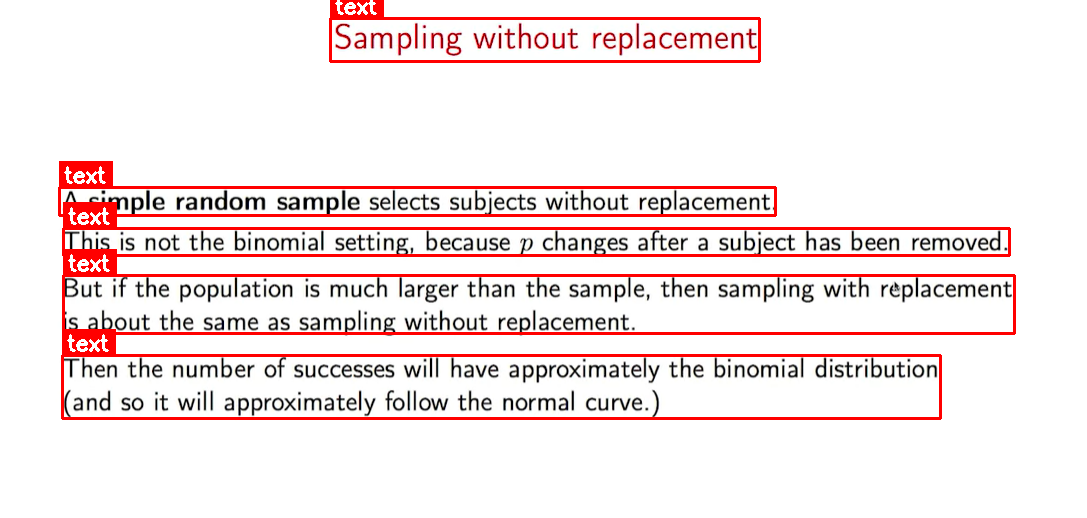text: (62, 355, 940, 418), (63, 275, 1014, 333), (63, 228, 1009, 255), (59, 187, 775, 215), (330, 18, 759, 61)
